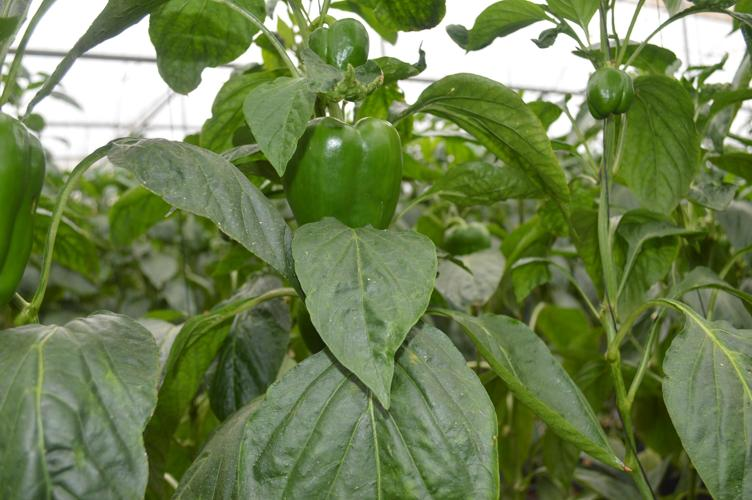BellPepper: (277, 112, 413, 251), (301, 20, 378, 85), (576, 59, 637, 115), (437, 212, 493, 260)
